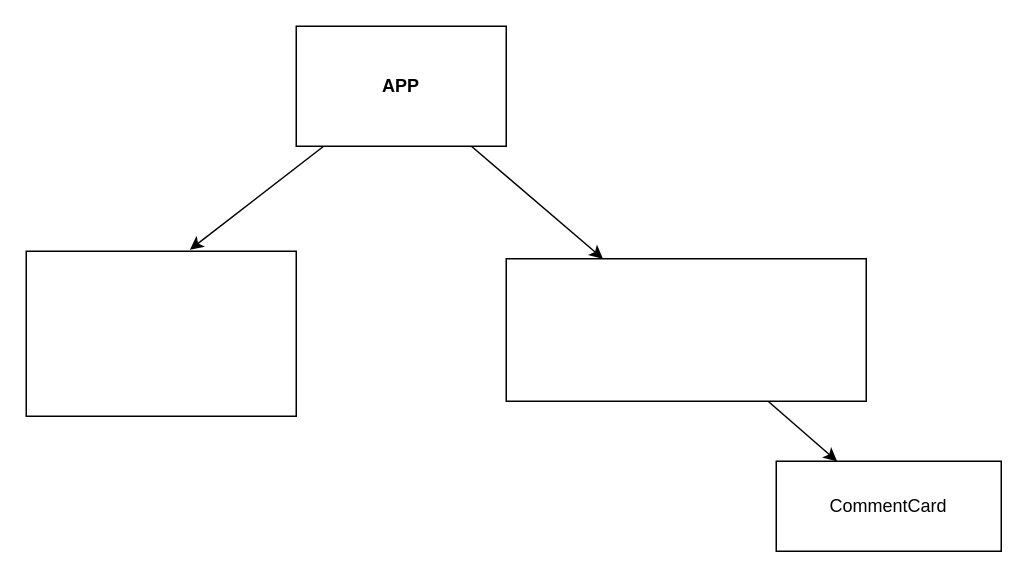
This 1028x578 diagram has some shape labels left out. Here are the shapes that lost their labels. From the top down, the box of each, then its label:
(25, 250, 296, 416): Video
(505, 257, 866, 401): CommentsContainner
